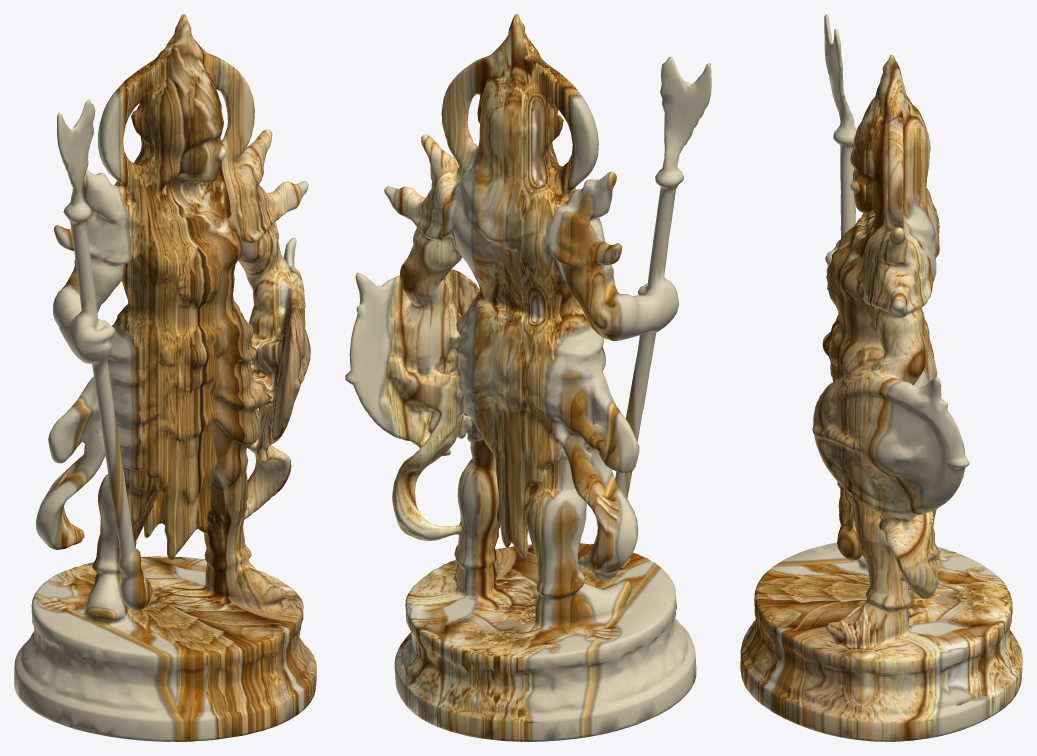
The model's file is padati.glb.
The picture shows the model from 3 angles, left to right: view 1: azimuth 30°, elevation 25°; view 2: azimuth 150°, elevation 25°; view 3: azimuth 270°, elevation 25°; orthographic projection. The views are drawn at different scales.
Visible parts, largest first — view 1: geometry_0; view 2: geometry_0; view 3: geometry_0.
Part boxes in pixels (box(x1,y1,x2,y2)): geometry_0: box(14, 14, 316, 741); geometry_0: box(345, 14, 711, 741); geometry_0: box(740, 14, 1022, 741).
Bounding box in the file's own units: 0.918 × 1.98 × 0.7936.
1 material, 1 textured.
